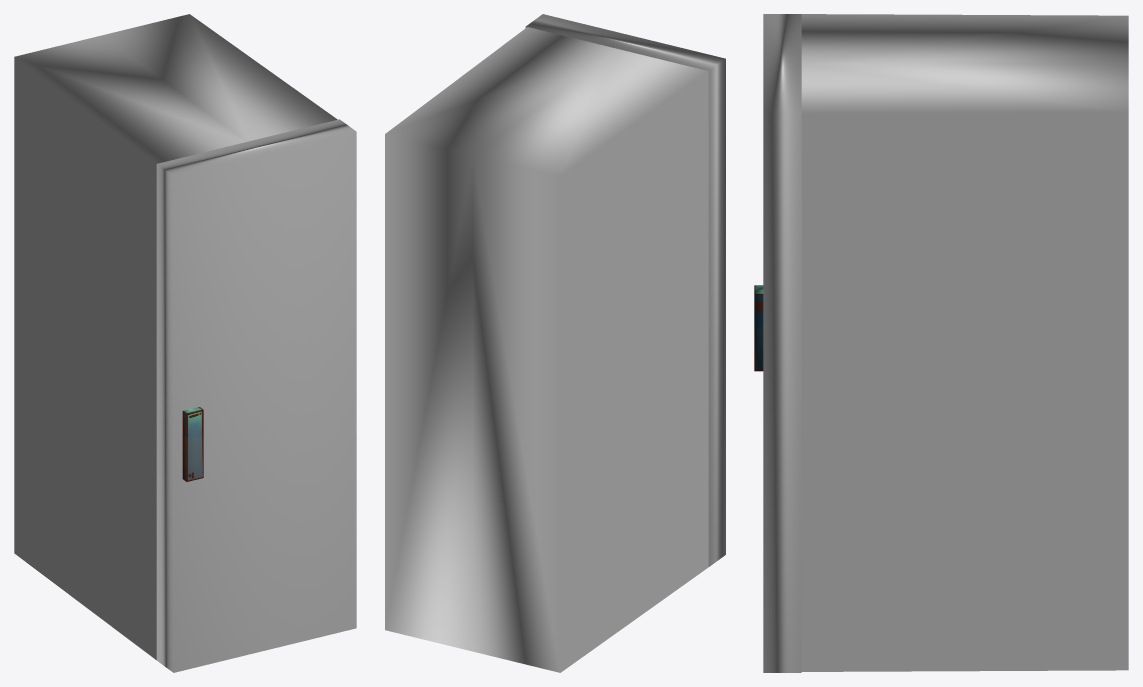
Rendered from Freezer resize.fbx.
The picture shows the model from 3 angles, left to right: view 1: azimuth 30°, elevation 25°; view 2: azimuth 150°, elevation 25°; view 3: azimuth 270°, elevation 25°; orthographic projection. The views are drawn at different scales.
Visible parts, largest first — view 1: Freezer_Door, Freezer_Body, Freezer_Handle; view 2: Freezer_Body, Freezer_Door; view 3: Freezer_Body, Freezer_Door, Freezer_Handle.
Boxes of the visible parts, x1,y1,x2,y2 form: Freezer_Door: [156, 119, 356, 672]; Freezer_Body: [14, 14, 337, 659]; Freezer_Handle: [182, 407, 203, 481]; Freezer_Body: [385, 27, 708, 672]; Freezer_Door: [525, 14, 725, 566]; Freezer_Body: [801, 14, 1128, 671]; Freezer_Door: [763, 14, 801, 672]; Freezer_Handle: [754, 285, 763, 371].
Bounding box in the file's own units: 46.32 × 120 × 72.96.
